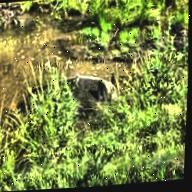boar: (17, 62, 127, 129)
